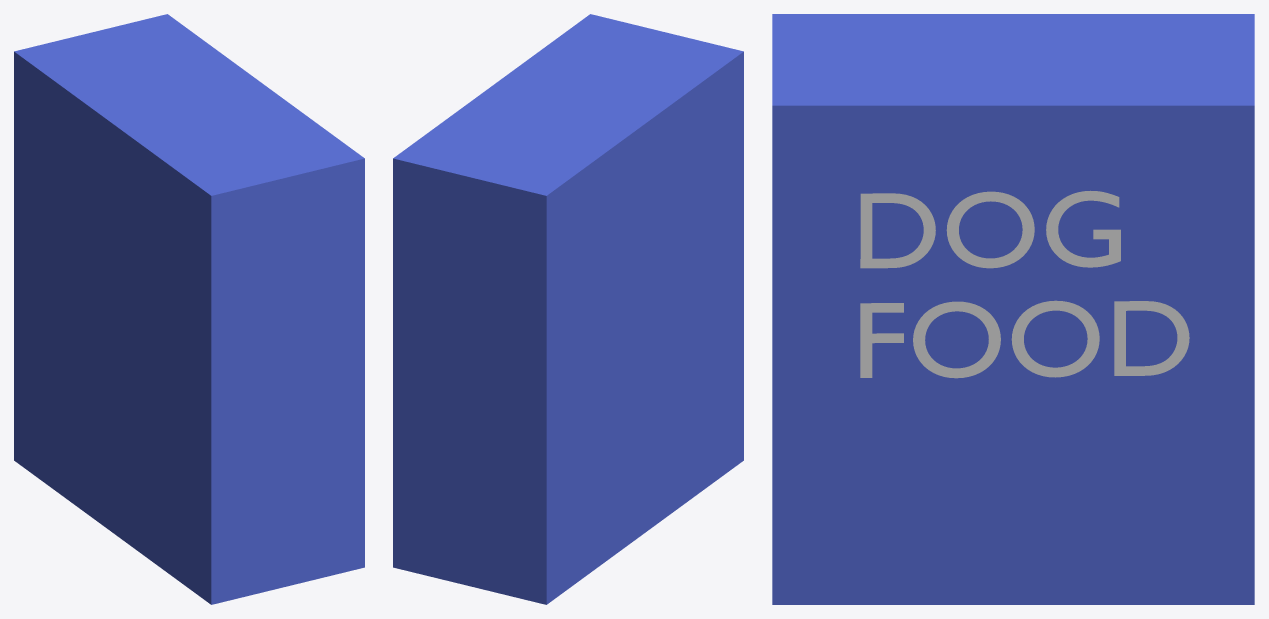
Rendered from dog food box 1.fbx.
The picture shows the model from 3 angles, left to right: view 1: azimuth 30°, elevation 25°; view 2: azimuth 150°, elevation 25°; view 3: azimuth 270°, elevation 25°; orthographic projection. The views are drawn at different scales.
Parts seen in each view (by area): view 1: Cube; view 2: Cube; view 3: Cube, Text.
Boxes of the visible parts, left/top/right/bottom form: Cube: left=14, top=14, right=364, bottom=604; Cube: left=393, top=14, right=743, bottom=604; Cube: left=772, top=14, right=1254, bottom=604; Text: left=860, top=190, right=1189, bottom=378.
Bounding box in the file's own units: 95.6 × 233 × 204.
